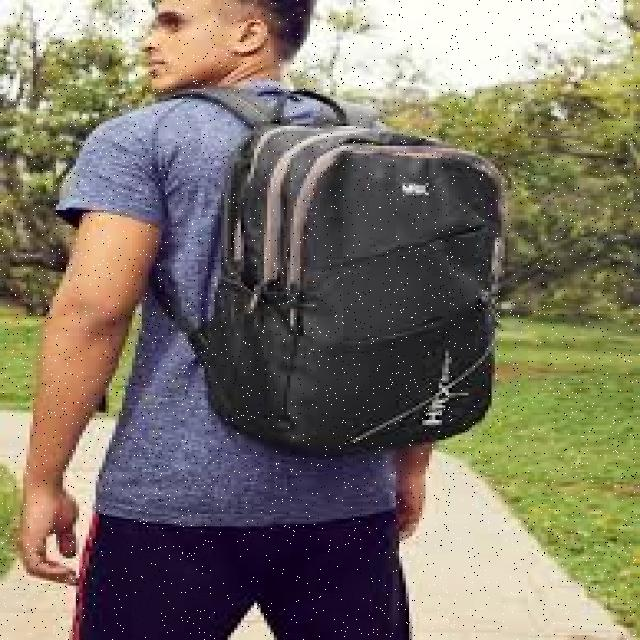backpack: (155, 84, 505, 457)
